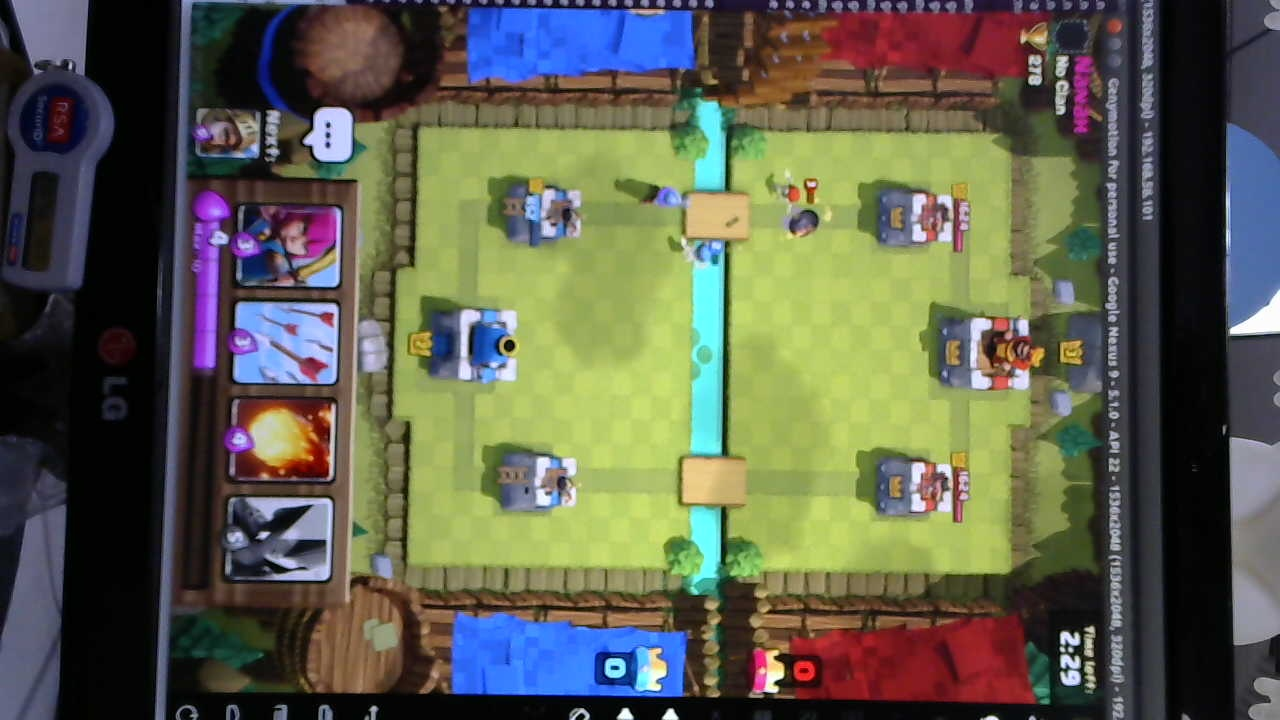arena: (498, 178, 586, 250), (493, 443, 580, 515)
bomb: (680, 228, 718, 270), (771, 180, 806, 209)
earena: (877, 183, 962, 252), (870, 452, 954, 520)
eking: (932, 312, 1039, 394)
king: (433, 308, 520, 382)
musketeer: (639, 177, 696, 213)
